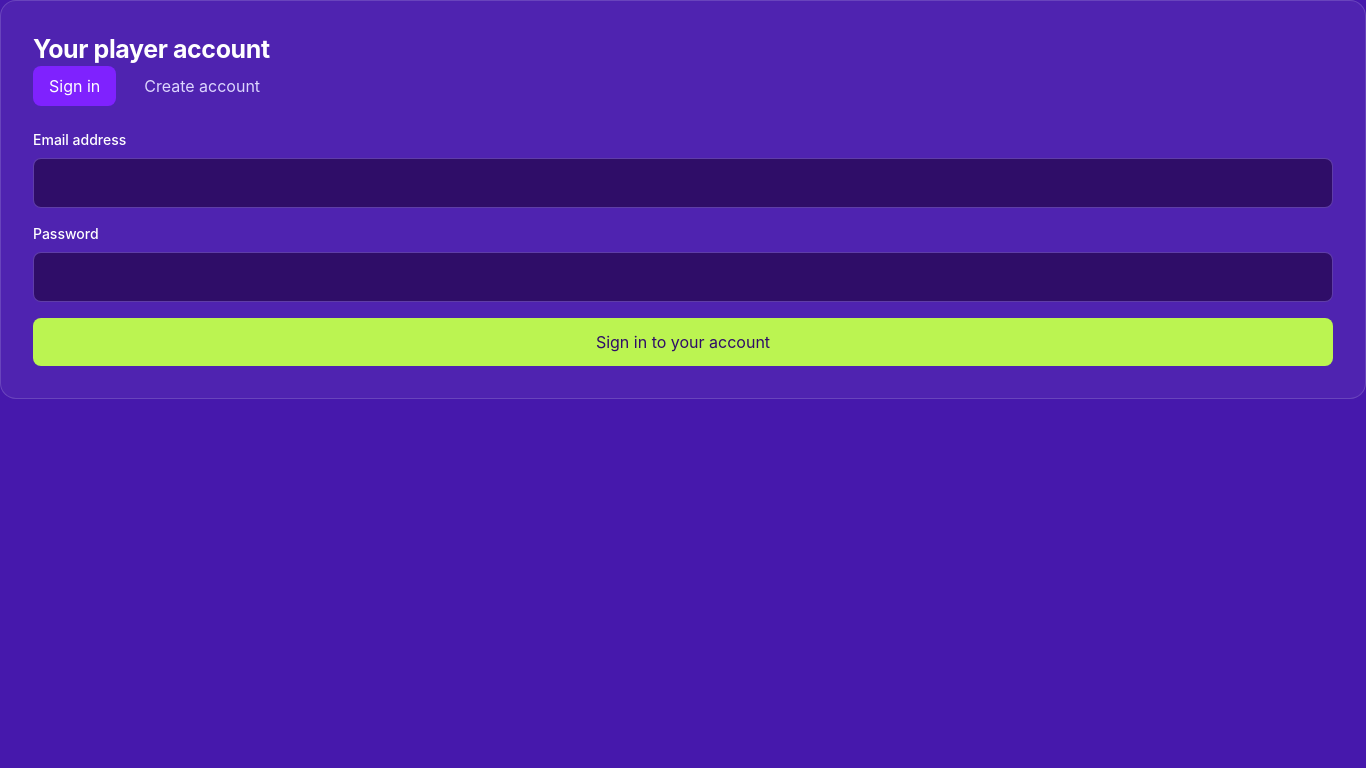
Test: account panel › submits registration and displays server field validation
The width and height of the screenshot is (1366, 768).
Check: the button "Sign in to your account" is shown, box left=33, top=318, right=1333, bottom=366
Click the button "Create account": (202, 86) left=128, top=66, right=276, bottom=106
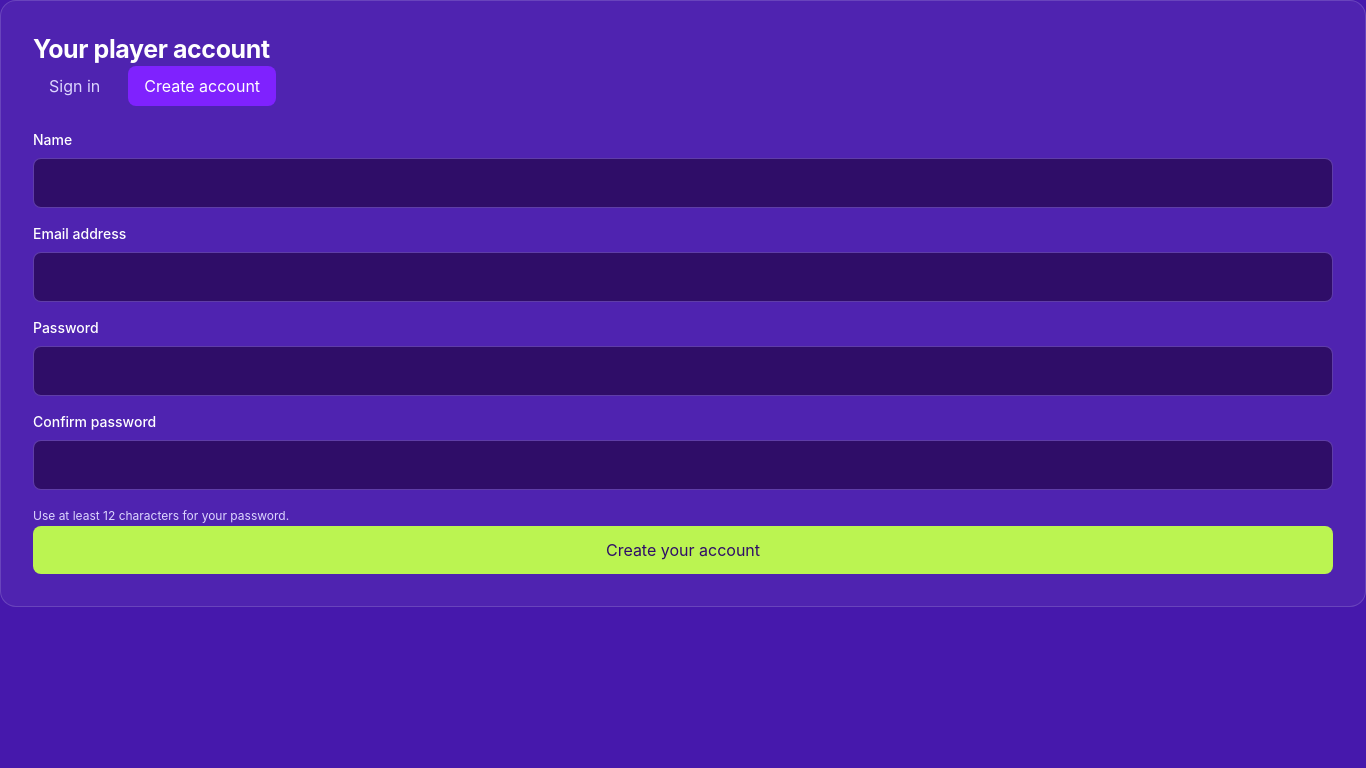
In the field labelled "Name": (683, 182) left=33, top=158, right=1333, bottom=208, type "Demo Player"
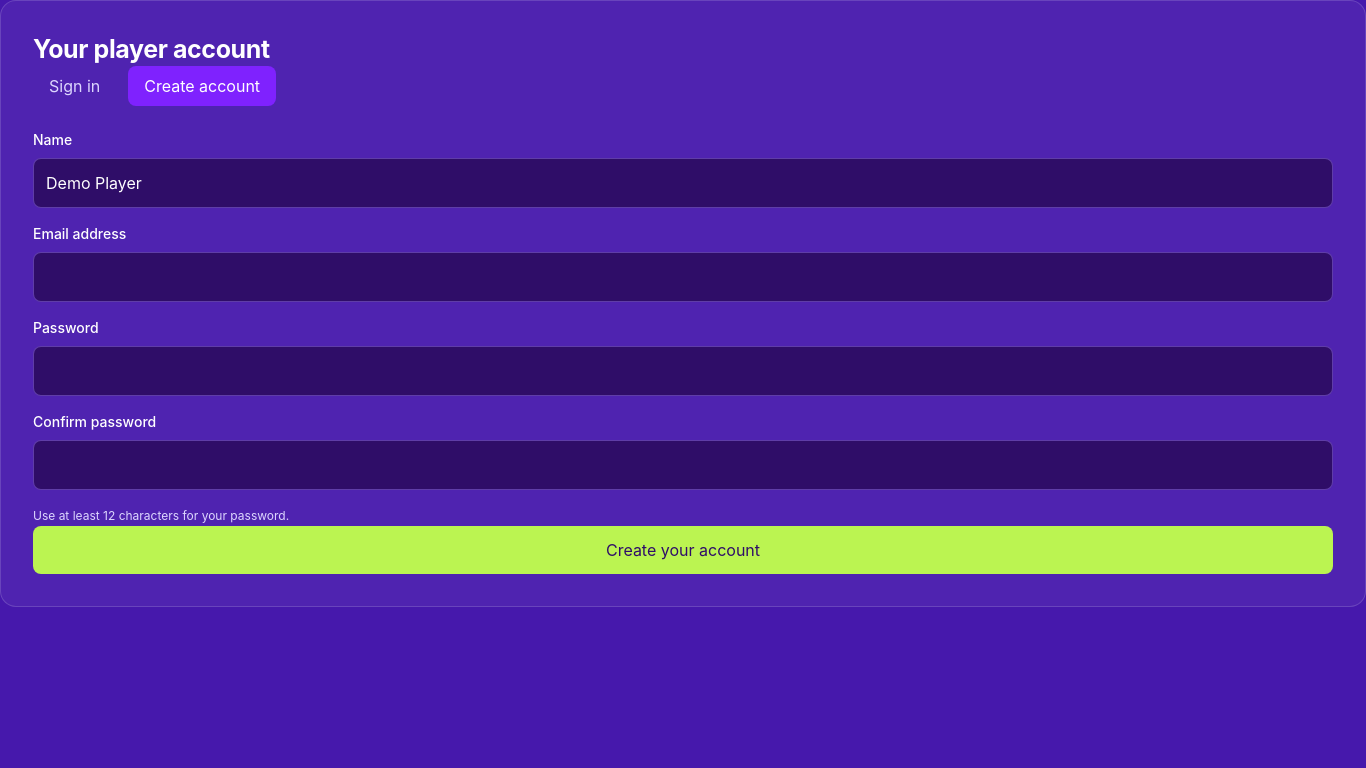
In the field labelled "Email address": (683, 276) left=33, top=252, right=1333, bottom=302, type "player@example.test"
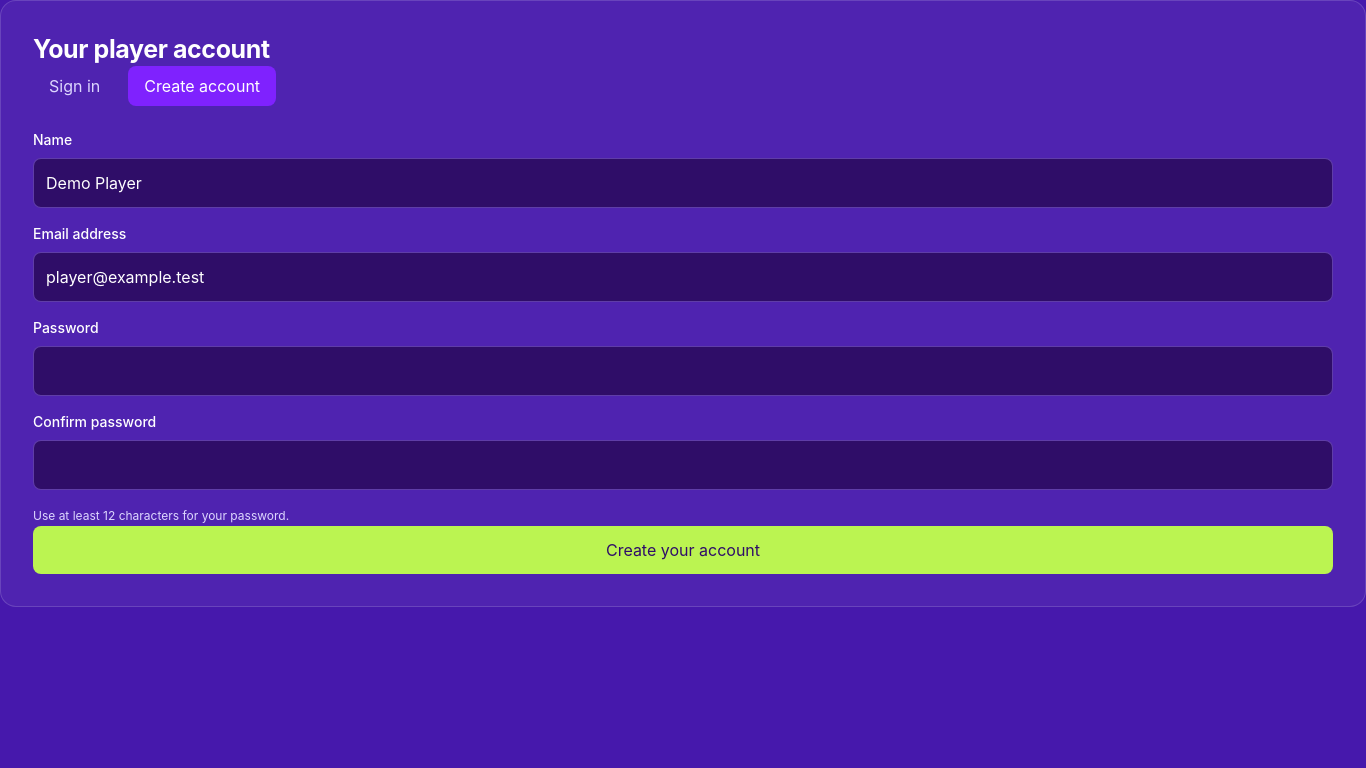
In the password field labelled "Password": (683, 370) left=33, top=346, right=1333, bottom=396, type "a-long-demo-password"
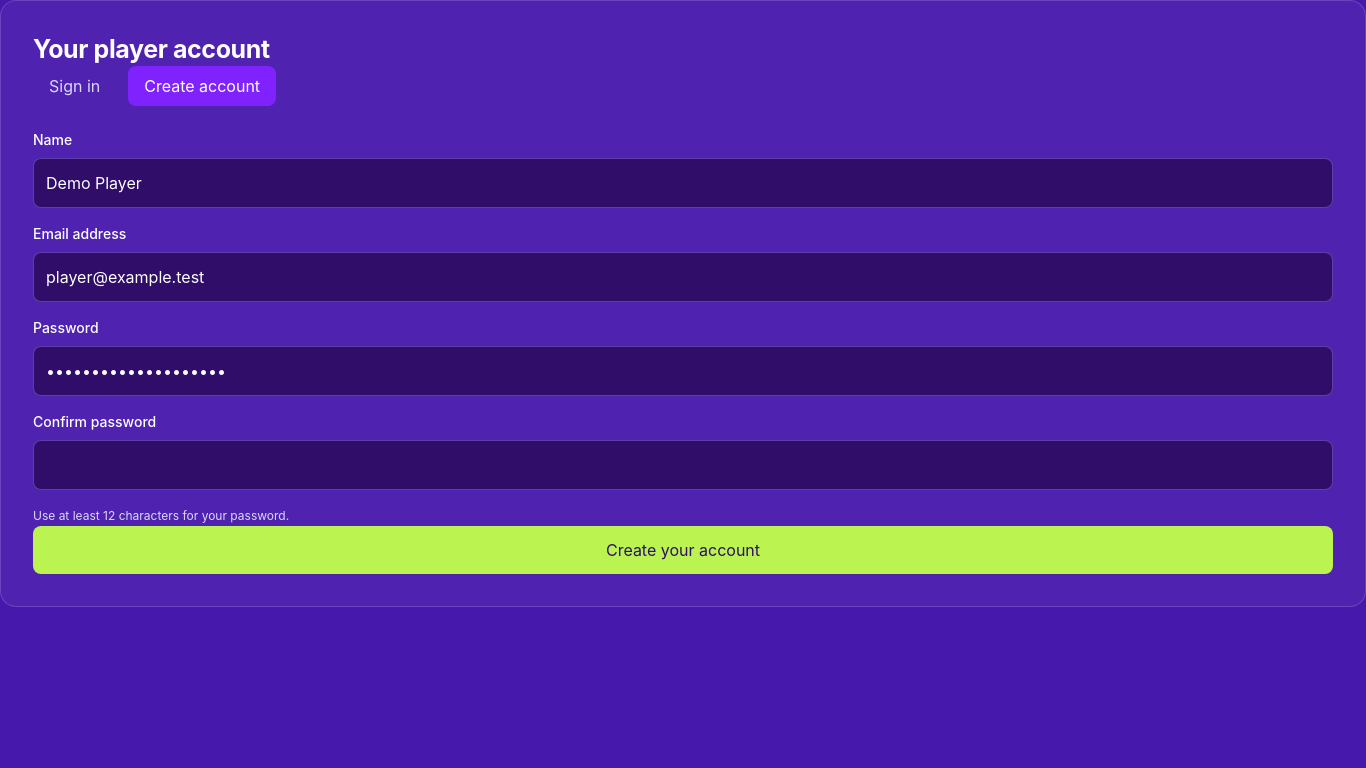
In the password field labelled "Confirm password": (683, 464) left=33, top=440, right=1333, bottom=490, type "a-long-demo-password"
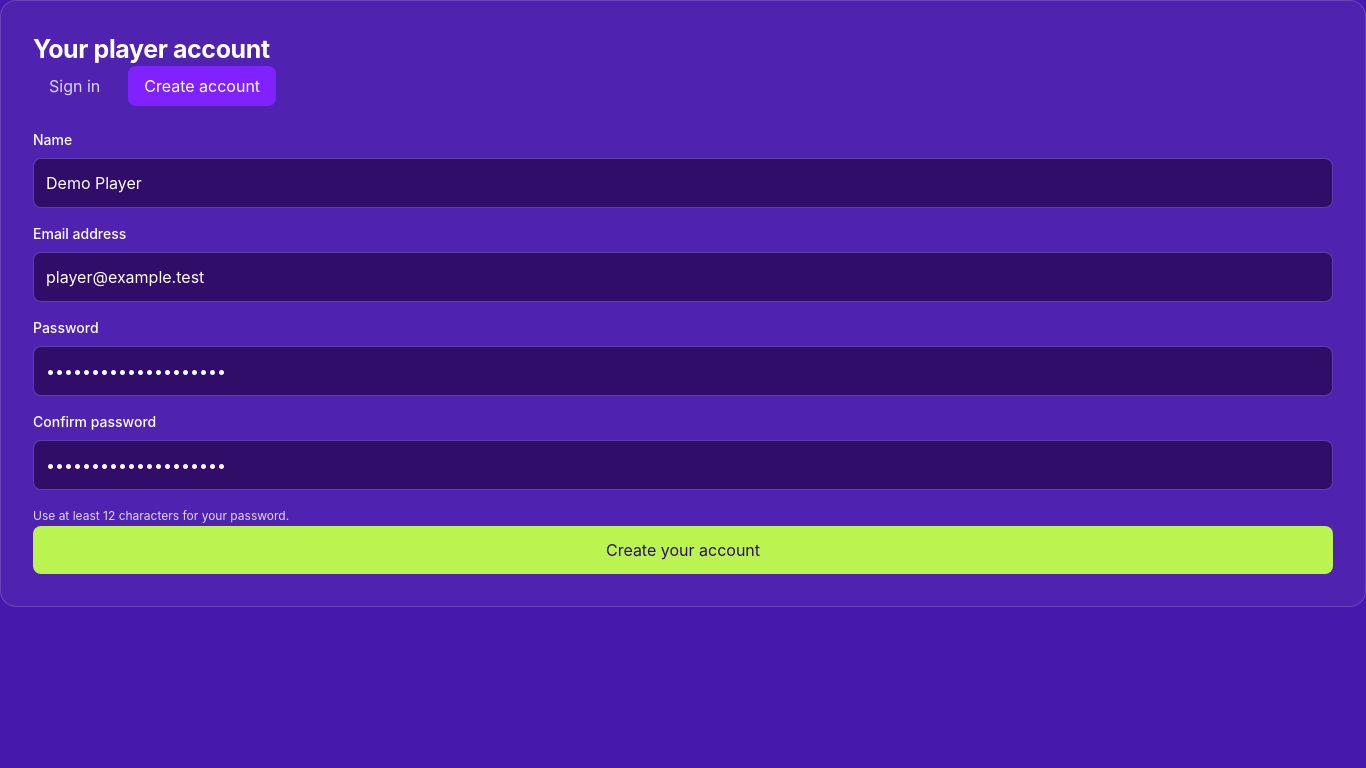
Click the button "Create your account": (683, 550) left=33, top=526, right=1333, bottom=574
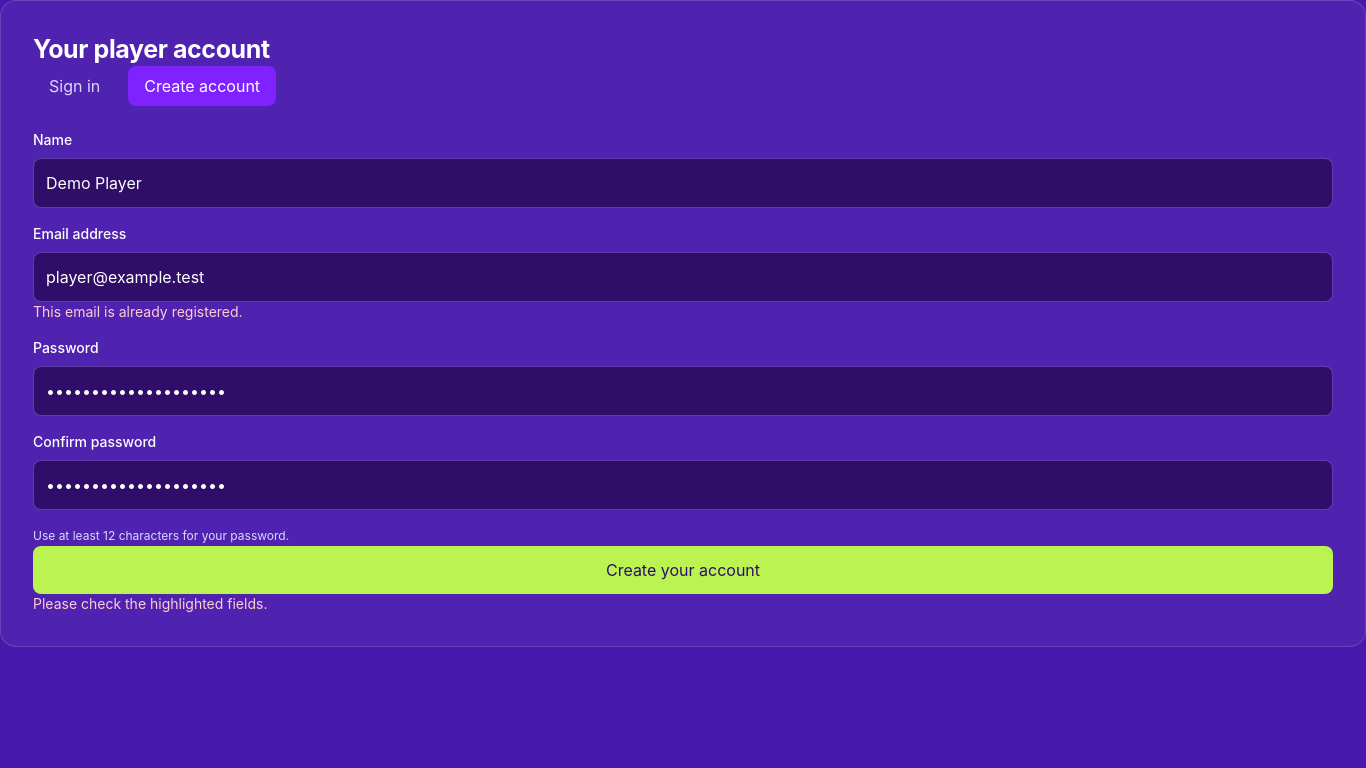
Check: the text "This email is already registered." is shown, box left=33, top=302, right=243, bottom=320
